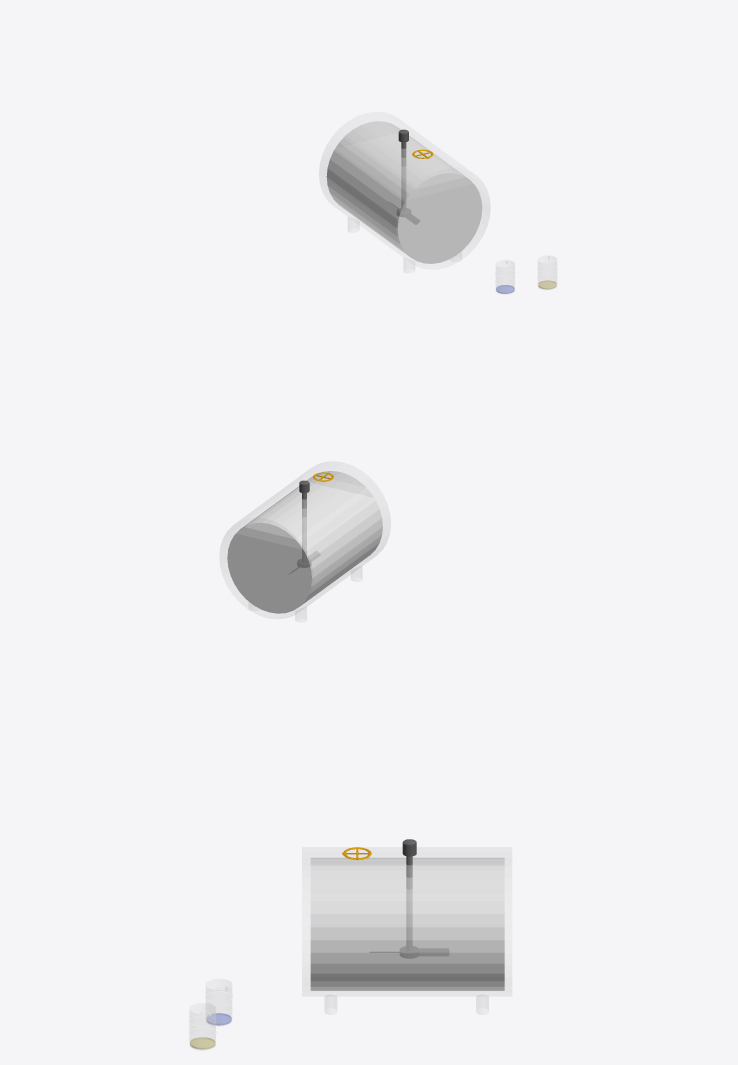
The model's file is horizontalTank1Blade.glb.
3 renders of one model, top to bottom at view 1: azimuth 30°, elevation 25°; view 2: azimuth 150°, elevation 25°; view 3: azimuth 270°, elevation 25°, orthographic. The views are drawn at different scales.
Parts seen in each view (by area): view 1: MilkCilinder100, MilkCilinder90, MilkCilinder75, TankCilinder, MilkCilinder50, MilkCilinder70, MilkCilinder80, MilkCilinder60, Blade, BarrelAcid, BarrelAlcaline; view 2: MilkCilinder100, MilkCilinder90, MilkCilinder75, TankCilinder, MilkCilinder80, MilkCilinder50, MilkCilinder70, MilkCilinder60, MilkCilinder40, MilkCilinder25, Blade; view 3: MilkCilinder100, MilkCilinder75, MilkCilinder90, MilkCilinder50, TankCilinder, MilkCilinder80, MilkCilinder25, Blade, BarrelAcid, BarrelAlcaline, MilkCilinder20, MilkCilinder30.
Boxes of the visible parts, x1=… form: MilkCilinder100: x1=327, y1=121, x2=472, y2=249; MilkCilinder90: x1=336, y1=126, x2=475, y2=238; MilkCilinder75: x1=327, y1=154, x2=481, y2=263; TankCilinder: x1=319, y1=112, x2=489, y2=272; MilkCilinder50: x1=327, y1=178, x2=481, y2=263; MilkCilinder70: x1=332, y1=170, x2=481, y2=246; MilkCilinder80: x1=333, y1=149, x2=477, y2=218; MilkCilinder60: x1=327, y1=169, x2=481, y2=246; Blade: x1=391, y1=130, x2=419, y2=224; BarrelAcid: x1=538, y1=256, x2=556, y2=289; BarrelAlcaline: x1=495, y1=260, x2=514, y2=294; MilkCilinder100: x1=236, y1=471, x2=381, y2=585; MilkCilinder90: x1=232, y1=476, x2=375, y2=600; MilkCilinder75: x1=227, y1=503, x2=382, y2=613; TankCilinder: x1=220, y1=461, x2=390, y2=621; MilkCilinder80: x1=231, y1=498, x2=378, y2=599; MilkCilinder50: x1=227, y1=527, x2=382, y2=611; MilkCilinder70: x1=228, y1=509, x2=382, y2=602; MilkCilinder60: x1=227, y1=519, x2=382, y2=600; MilkCilinder40: x1=229, y1=536, x2=381, y2=603; MilkCilinder25: x1=234, y1=549, x2=375, y2=612; Blade: x1=291, y1=480, x2=320, y2=572; MilkCilinder100: x1=310, y1=857, x2=504, y2=963; MilkCilinder75: x1=311, y1=918, x2=504, y2=981; MilkCilinder90: x1=311, y1=859, x2=504, y2=913; MilkCilinder50: x1=311, y1=953, x2=504, y2=990; TankCilinder: x1=302, y1=847, x2=511, y2=1014; MilkCilinder80: x1=311, y1=910, x2=503, y2=925; MilkCilinder25: x1=311, y1=979, x2=504, y2=990; Blade: x1=370, y1=839, x2=448, y2=957; BarrelAcid: x1=189, y1=1003, x2=215, y2=1050; BarrelAlcaline: x1=205, y1=979, x2=232, y2=1025; MilkCilinder20: x1=311, y1=983, x2=504, y2=986; MilkCilinder30: x1=317, y1=975, x2=504, y2=980.
Size of the model in its own units: 10.55 by 2.61 by 10.55.
